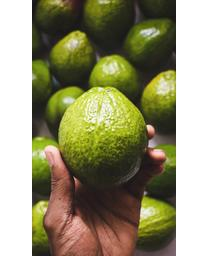avocado: (57, 87, 146, 190)
